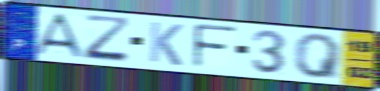3: (250, 29, 290, 76)
A: (31, 12, 88, 60)
F: (192, 22, 239, 71)
K: (147, 20, 185, 68)
Q: (293, 33, 345, 81)
Z: (82, 13, 133, 65)
